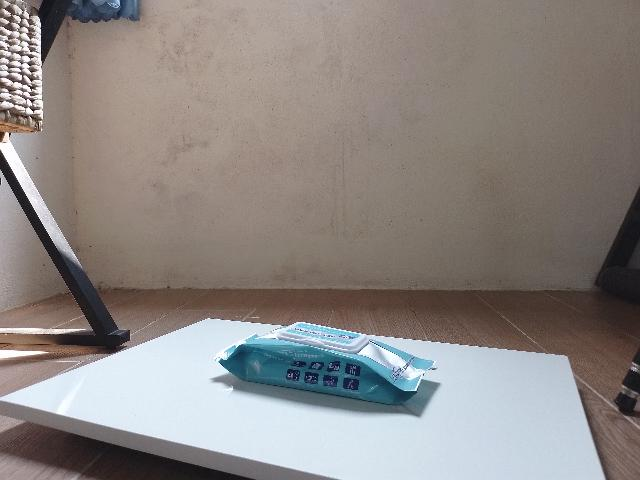Let-green_alcohol_wipes: (214, 322, 440, 405)
